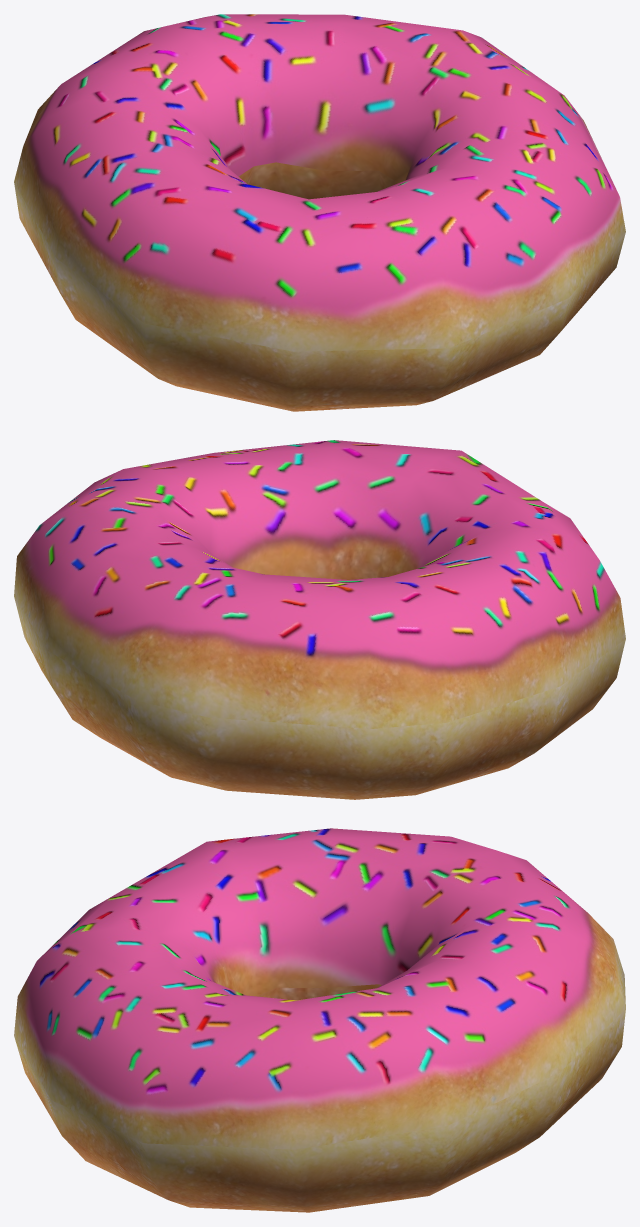
Rendered from Donut8LP.obj.
The picture shows the model from 3 angles, top to bottom: view 1: azimuth 30°, elevation 25°; view 2: azimuth 150°, elevation 25°; view 3: azimuth 270°, elevation 25°; orthographic projection.
Parts seen in each view (by area): view 1: donut073; view 2: donut073; view 3: donut073.
Part boxes in pixels (left/top/right/bottom): donut073: left=14, top=14, right=625, bottom=411; donut073: left=14, top=440, right=625, bottom=799; donut073: left=14, top=828, right=625, bottom=1212.
Size of the model in its own units: 9.42 by 3.94 by 9.78.
1 material, 1 textured.
